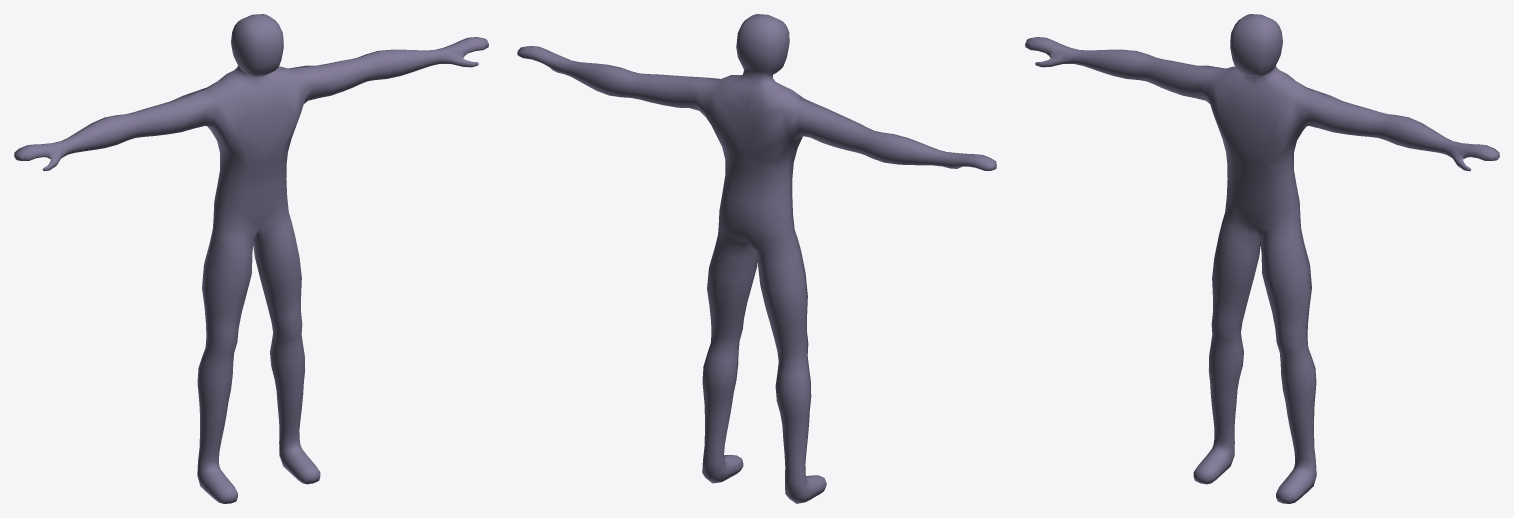
Rendered from LowPoly_Character.fbx.
3 views of the same model, side by side, from view 1: azimuth 30°, elevation 25°; view 2: azimuth 150°, elevation 25°; view 3: azimuth 330°, elevation 25° (orthographic).
Parts seen in each view (by area): view 1: Body.003; view 2: Body.003; view 3: Body.003.
Part boxes in pixels (left/top/right/bottom): Body.003: left=14, top=14, right=488, bottom=503; Body.003: left=517, top=14, right=996, bottom=503; Body.003: left=1025, top=14, right=1499, bottom=503.
Bounding box in the file's own units: 882 × 835 × 116.
